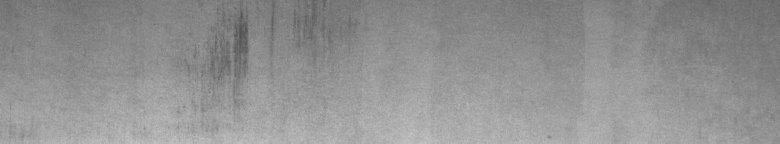ka: (206, 4, 275, 80)
